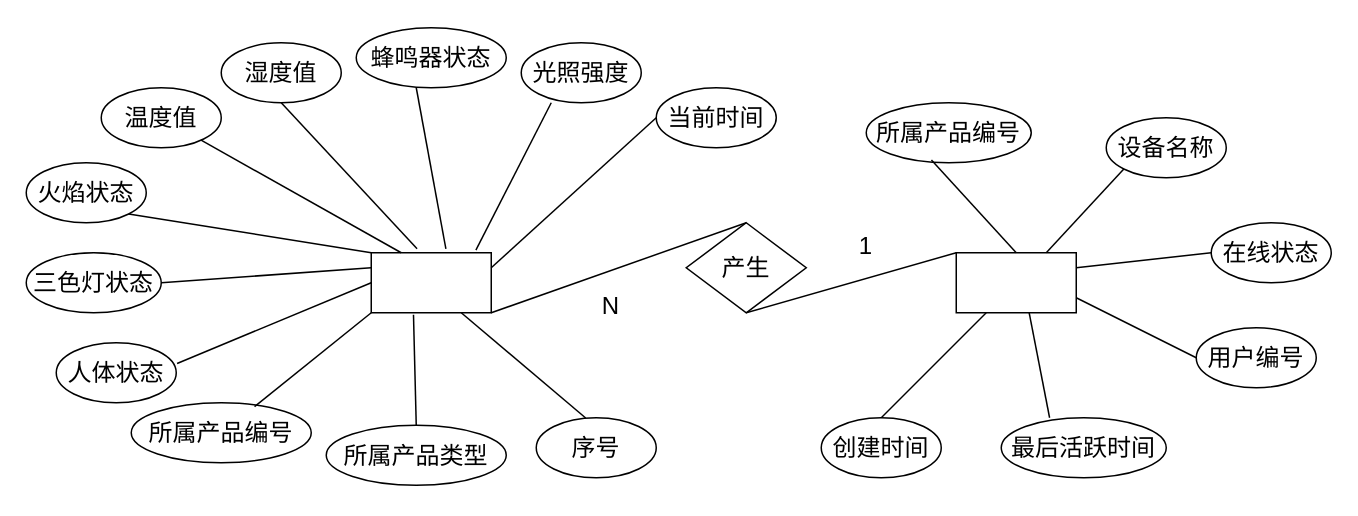
Image size: 1358x516. Some labels were removed from this diagram. Here are the shapes that lost their labels. From the top down, the centre of each, then its label:
At (430,282): "设备数据".
At (1015,282): "设备".
